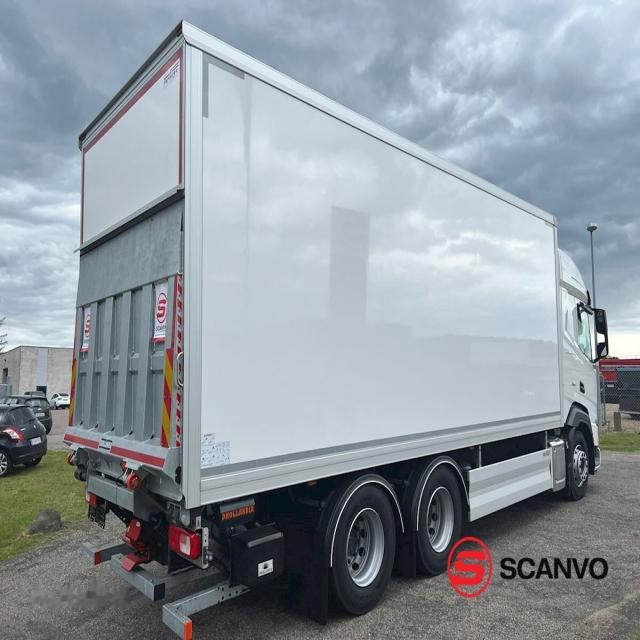truck: (65, 23, 609, 638)
